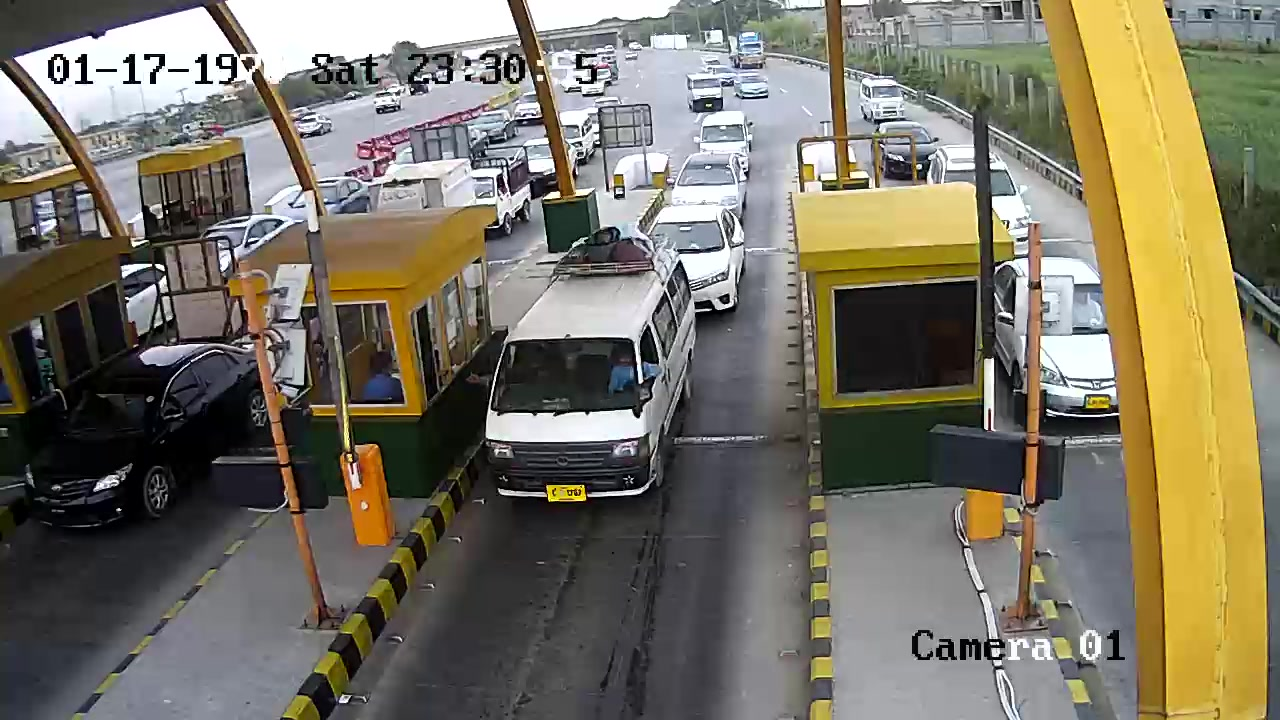F2: (488, 224, 696, 510)
